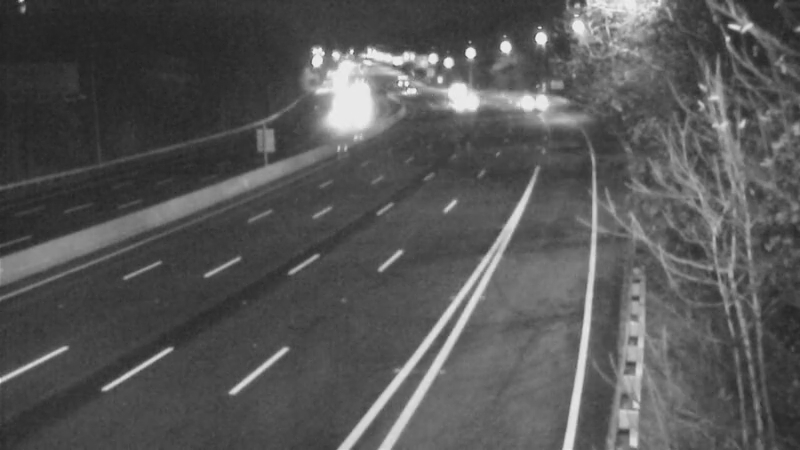vehicle: (374, 55, 424, 105), (431, 59, 481, 109), (432, 68, 482, 118), (498, 76, 548, 126), (439, 74, 489, 124), (310, 92, 360, 142)
